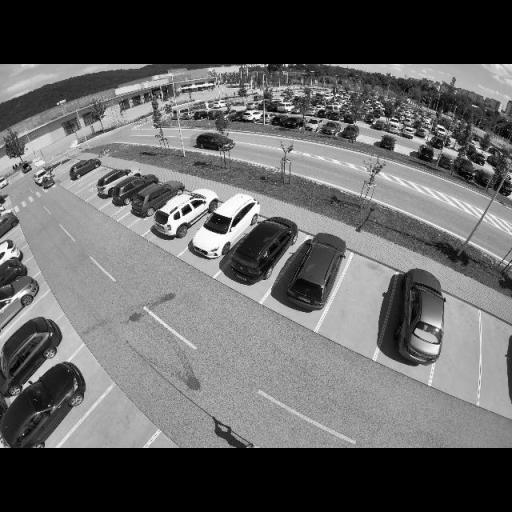busy: (5, 356, 104, 447), (284, 230, 353, 312), (5, 315, 67, 405), (396, 268, 450, 366), (194, 197, 257, 259), (231, 220, 291, 278), (157, 191, 213, 238), (2, 272, 40, 330), (132, 182, 183, 215), (112, 175, 158, 203), (1, 260, 25, 298), (93, 170, 136, 190), (192, 134, 235, 152), (66, 159, 102, 180), (1, 214, 18, 240), (276, 116, 306, 129), (224, 110, 250, 122), (320, 121, 342, 135), (257, 113, 282, 125), (240, 112, 264, 124), (304, 120, 325, 132), (341, 125, 360, 137)
free: (442, 328, 482, 376), (482, 336, 512, 394), (340, 284, 388, 318), (85, 420, 137, 446), (3, 308, 61, 328), (394, 140, 419, 158), (354, 132, 382, 146), (2, 228, 24, 244), (82, 184, 104, 197), (87, 171, 103, 181)
